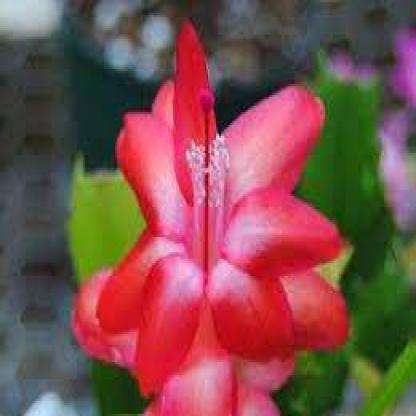Aglonema: (83, 174, 395, 289), (213, 4, 416, 147), (6, 305, 198, 407)
